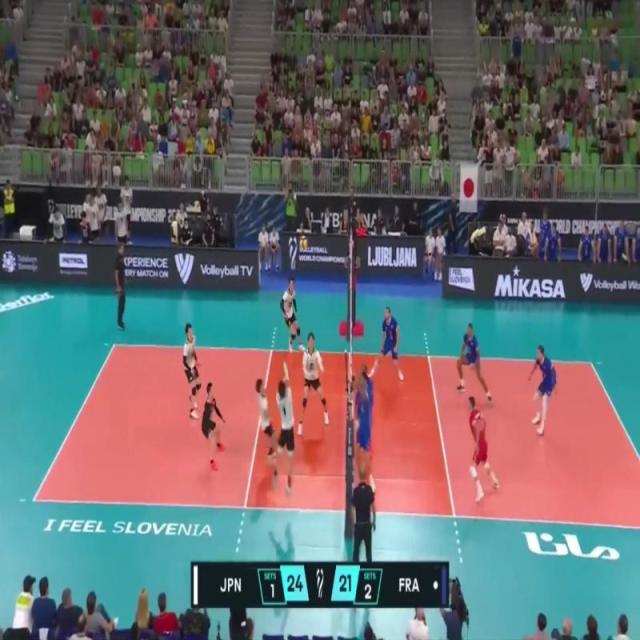volleyball: (299, 234, 308, 250)
